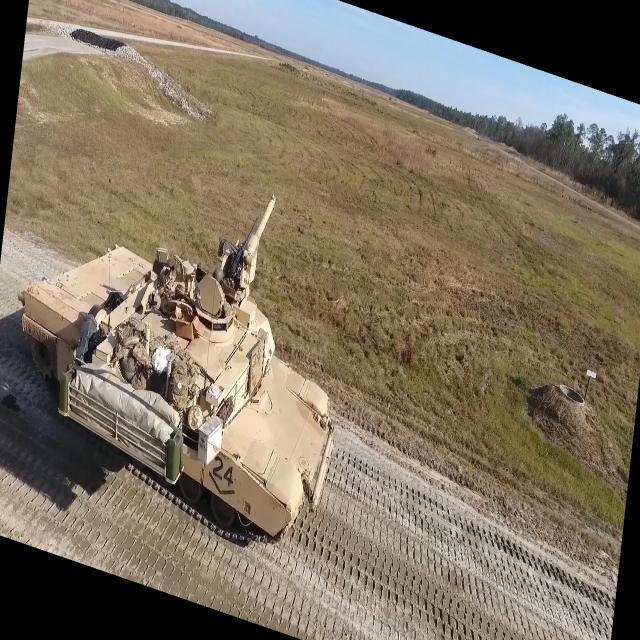Tanks: (16, 194, 336, 552)
